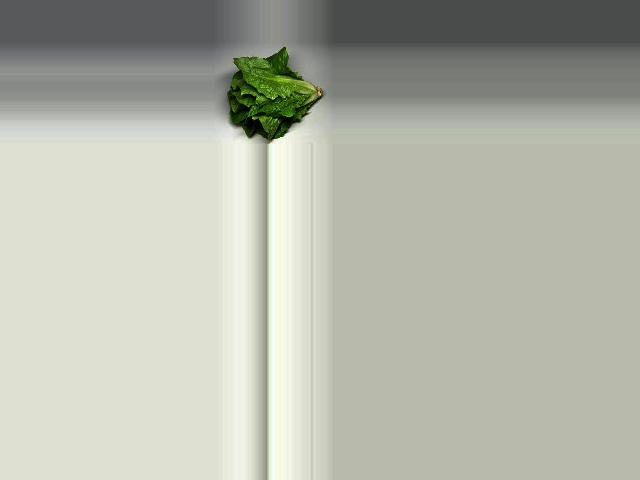lettuce: (223, 49, 330, 145)
